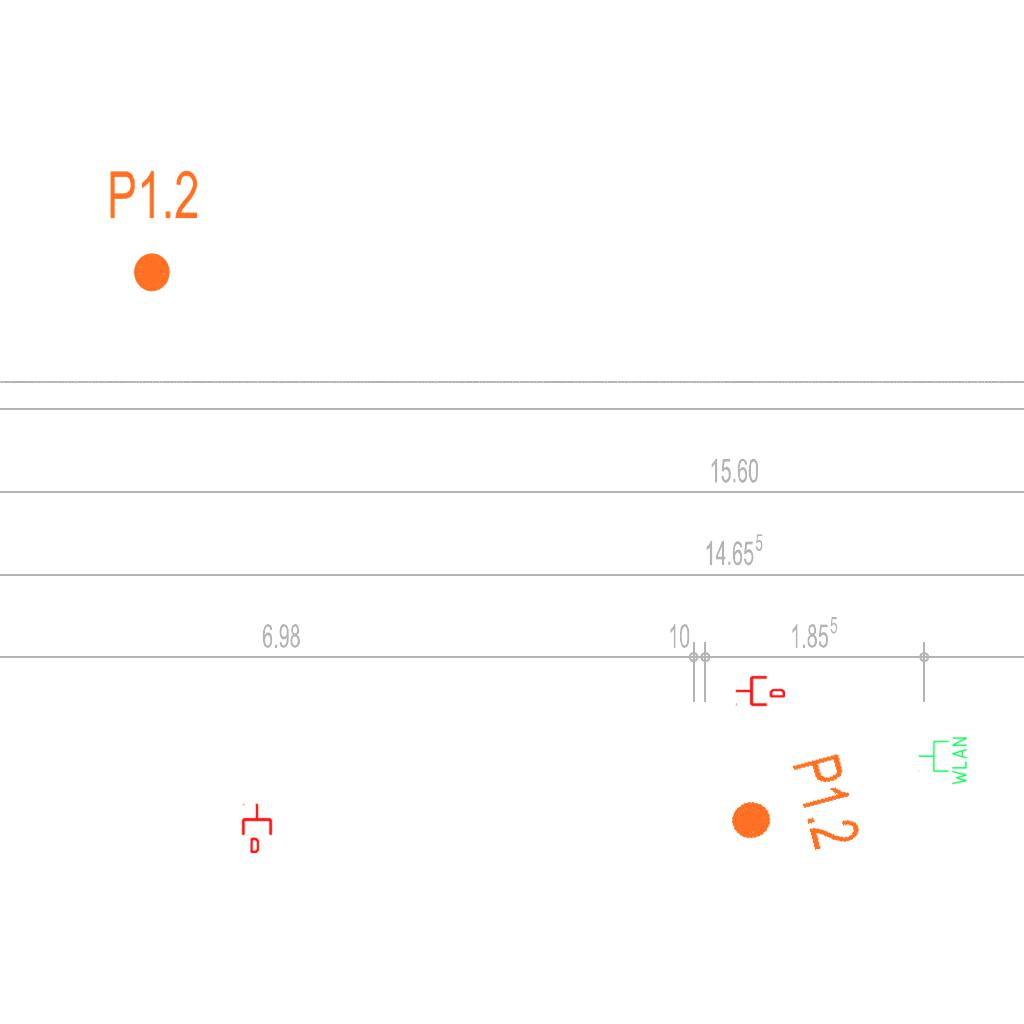Datenanschluss_einfach: (240, 803, 274, 853), (735, 674, 785, 708)
Downlight_LED_Einbauleuchten_Flur: (717, 749, 866, 873), (107, 167, 200, 295)
WLAN: (917, 735, 969, 787)
